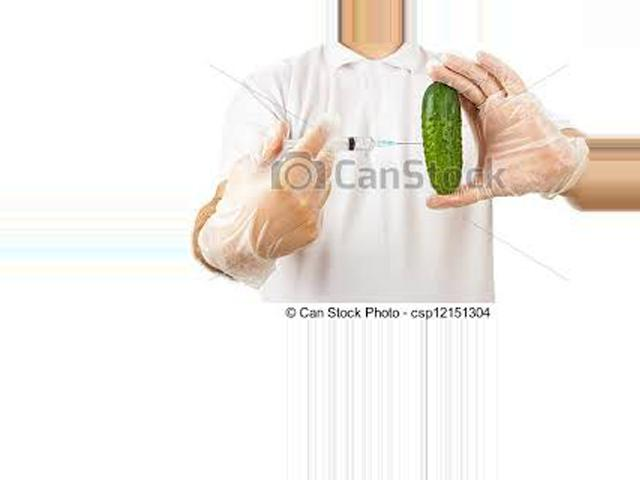cucumber: (423, 78, 464, 194)
